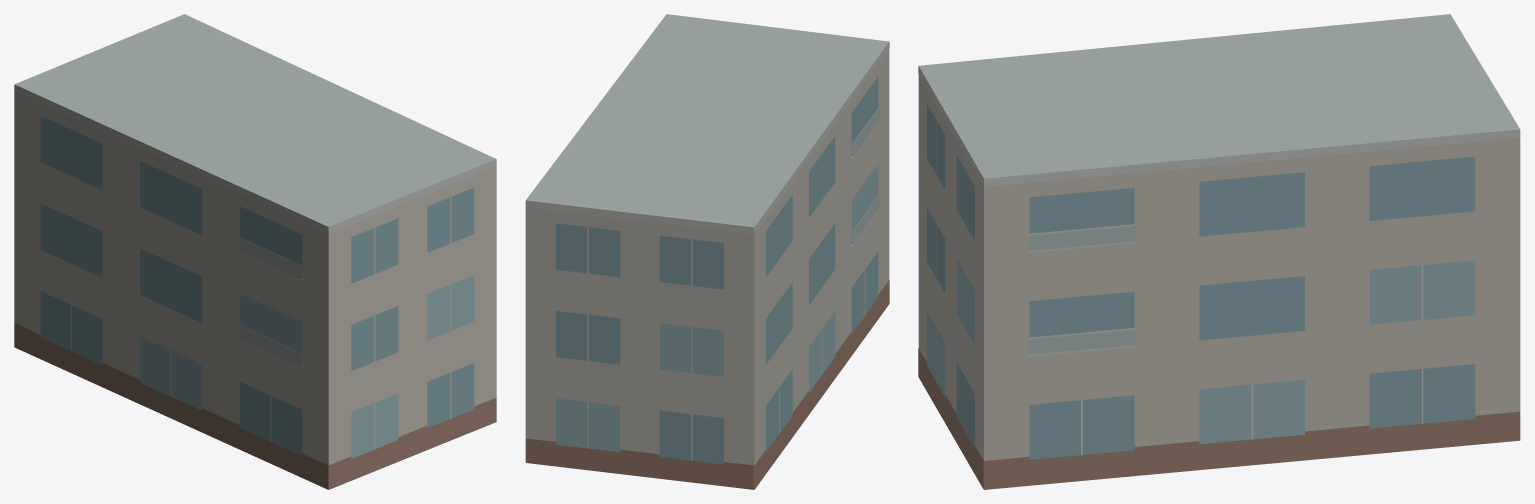
File: survey-upis-32919291.glb
3 renders of one model, left to right at view 1: azimuth 30°, elevation 25°; view 2: azimuth 150°, elevation 25°; view 3: azimuth 270°, elevation 25°, orthographic. The views are drawn at different scales.
Visible parts, largest first — view 1: survey-upis-32919291.tmp; view 2: survey-upis-32919291.tmp; view 3: survey-upis-32919291.tmp.
Boxes of the visible parts, x1,y1,x2,y2 form: survey-upis-32919291.tmp: [14, 14, 496, 489]; survey-upis-32919291.tmp: [525, 14, 889, 489]; survey-upis-32919291.tmp: [918, 14, 1520, 489].
Size of the model in its own units: 10.39 by 9.15 by 16.05.
